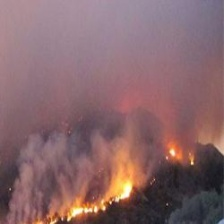fire: (40, 146, 190, 224)
smoke: (1, 131, 98, 203)
